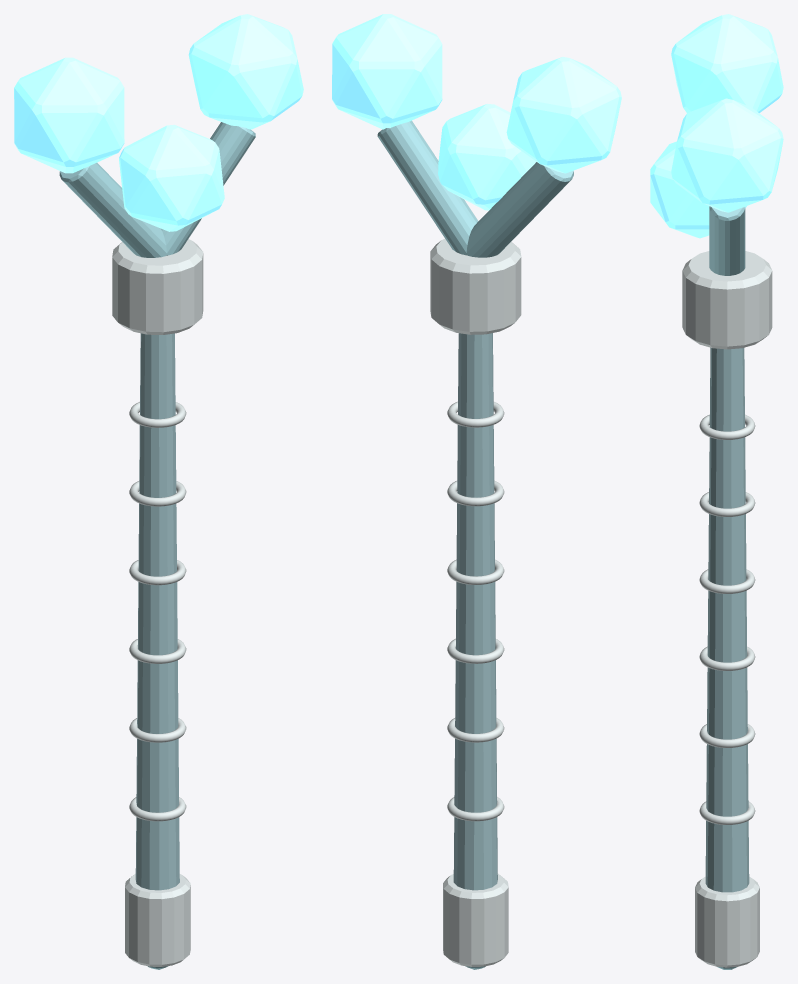
File: mage-staff-03-tideglass.glb
3 renders of one model, left to right at view 1: azimuth 30°, elevation 25°; view 2: azimuth 150°, elevation 25°; view 3: azimuth 270°, elevation 25°, orthographic. The views are drawn at different scales.
Parts seen in each view (by area): view 1: mage-staff-03-tideglass_WoodenShaft, mage-staff-03-tideglass_TideShard_-1, mage-staff-03-tideglass_TideShard_1, mage-staff-03-tideglass_CrownStar, mage-staff-03-tideglass_CrownCollar, mage-staff-03-tideglass_LowerFerrule, mage-staff-03-tideglass_WaveArm_-1, mage-staff-03-tideglass_WaveArm_1, mage-staff-03-tideglass_ShaftBand_6, mage-staff-03-tideglass_ShaftBand_5, mage-staff-03-tideglass_ShaftBand_4, mage-staff-03-tideglass_ShaftBand_3 (+2 smaller); view 2: mage-staff-03-tideglass_WoodenShaft, mage-staff-03-tideglass_TideShard_1, mage-staff-03-tideglass_TideShard_-1, mage-staff-03-tideglass_CrownCollar, mage-staff-03-tideglass_CrownStar, mage-staff-03-tideglass_LowerFerrule, mage-staff-03-tideglass_WaveArm_1, mage-staff-03-tideglass_WaveArm_-1, mage-staff-03-tideglass_ShaftBand_6, mage-staff-03-tideglass_ShaftBand_5, mage-staff-03-tideglass_ShaftBand_4, mage-staff-03-tideglass_ShaftBand_3 (+2 smaller); view 3: mage-staff-03-tideglass_WoodenShaft, mage-staff-03-tideglass_TideShard_1, mage-staff-03-tideglass_TideShard_-1, mage-staff-03-tideglass_CrownCollar, mage-staff-03-tideglass_LowerFerrule, mage-staff-03-tideglass_CrownStar, mage-staff-03-tideglass_WaveArm_1, mage-staff-03-tideglass_ShaftBand_6, mage-staff-03-tideglass_ShaftBand_5, mage-staff-03-tideglass_ShaftBand_4, mage-staff-03-tideglass_ShaftBand_3, mage-staff-03-tideglass_ShaftBand_2 (+1 smaller).
Boxes of the visible parts, x1=… form: mage-staff-03-tideglass_WoodenShaft: x1=135, y1=333, x2=179, y2=890; mage-staff-03-tideglass_TideShard_-1: x1=14, y1=57, x2=124, y2=173; mage-staff-03-tideglass_TideShard_1: x1=188, y1=14, x2=303, y2=129; mage-staff-03-tideglass_CrownStar: x1=119, y1=124, x2=224, y2=231; mage-staff-03-tideglass_CrownCollar: x1=112, y1=239, x2=203, y2=334; mage-staff-03-tideglass_LowerFerrule: x1=125, y1=873, x2=190, y2=966; mage-staff-03-tideglass_WaveArm_-1: x1=59, y1=163, x2=166, y2=257; mage-staff-03-tideglass_WaveArm_1: x1=161, y1=122, x2=255, y2=255; mage-staff-03-tideglass_ShaftBand_6: x1=129, y1=402, x2=186, y2=427; mage-staff-03-tideglass_ShaftBand_5: x1=129, y1=481, x2=186, y2=506; mage-staff-03-tideglass_ShaftBand_4: x1=129, y1=560, x2=186, y2=585; mage-staff-03-tideglass_ShaftBand_3: x1=129, y1=639, x2=186, y2=663; mage-staff-03-tideglass_WoodenShaft: x1=453, y1=333, x2=497, y2=890; mage-staff-03-tideglass_TideShard_1: x1=332, y1=14, x2=442, y2=129; mage-staff-03-tideglass_TideShard_-1: x1=506, y1=57, x2=621, y2=173; mage-staff-03-tideglass_CrownCollar: x1=430, y1=238, x2=521, y2=334; mage-staff-03-tideglass_CrownStar: x1=438, y1=103, x2=536, y2=210; mage-staff-03-tideglass_LowerFerrule: x1=443, y1=873, x2=508, y2=966; mage-staff-03-tideglass_WaveArm_1: x1=377, y1=120, x2=478, y2=255; mage-staff-03-tideglass_WaveArm_-1: x1=466, y1=162, x2=573, y2=257; mage-staff-03-tideglass_ShaftBand_6: x1=447, y1=401, x2=504, y2=427; mage-staff-03-tideglass_ShaftBand_5: x1=447, y1=480, x2=504, y2=506; mage-staff-03-tideglass_ShaftBand_4: x1=447, y1=559, x2=504, y2=584; mage-staff-03-tideglass_ShaftBand_3: x1=447, y1=638, x2=504, y2=663; mage-staff-03-tideglass_WoodenShaft: x1=705, y1=347, x2=749, y2=892; mage-staff-03-tideglass_TideShard_1: x1=671, y1=98, x2=783, y2=212; mage-staff-03-tideglass_TideShard_-1: x1=671, y1=14, x2=783, y2=113; mage-staff-03-tideglass_CrownCollar: x1=682, y1=251, x2=772, y2=349; mage-staff-03-tideglass_LowerFerrule: x1=695, y1=876, x2=759, y2=967; mage-staff-03-tideglass_CrownStar: x1=650, y1=141, x2=746, y2=238; mage-staff-03-tideglass_WaveArm_1: x1=709, y1=206, x2=745, y2=275; mage-staff-03-tideglass_ShaftBand_6: x1=699, y1=414, x2=755, y2=439; mage-staff-03-tideglass_ShaftBand_5: x1=699, y1=492, x2=755, y2=516; mage-staff-03-tideglass_ShaftBand_4: x1=699, y1=569, x2=755, y2=593; mage-staff-03-tideglass_ShaftBand_3: x1=699, y1=646, x2=755, y2=670; mage-staff-03-tideglass_ShaftBand_2: x1=699, y1=724, x2=755, y2=747.
Bounding box in the file's own units: 0.622 × 2.01 × 0.2668.
